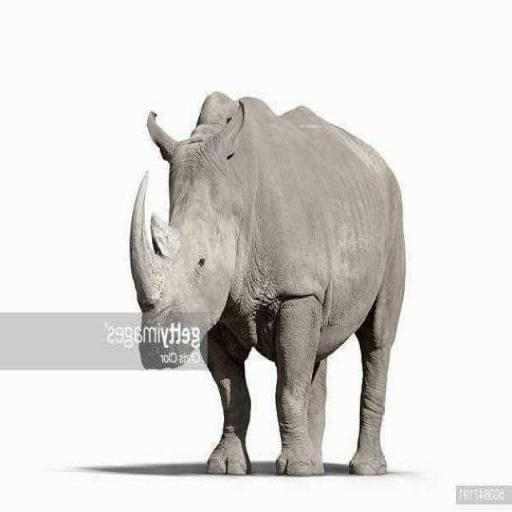Rhino: (128, 89, 406, 477)
